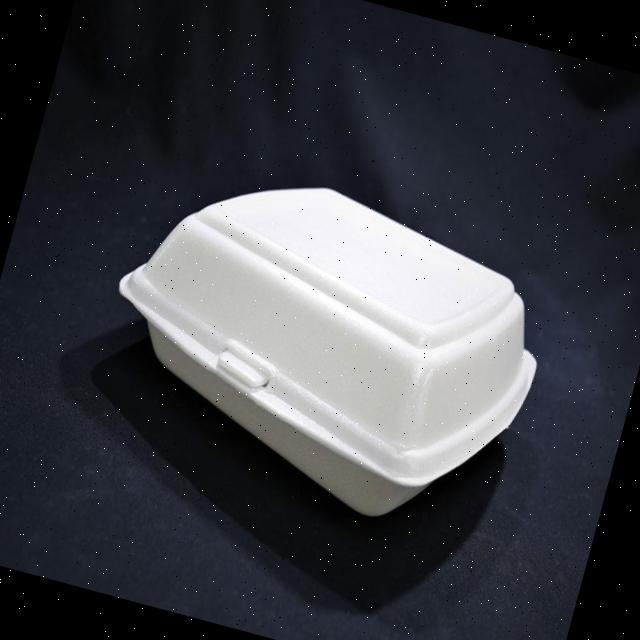styrofoam: (76, 138, 568, 550)
